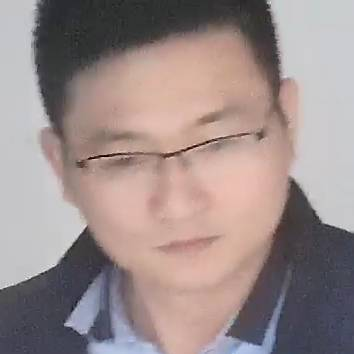gg: (20, 12, 308, 300)
